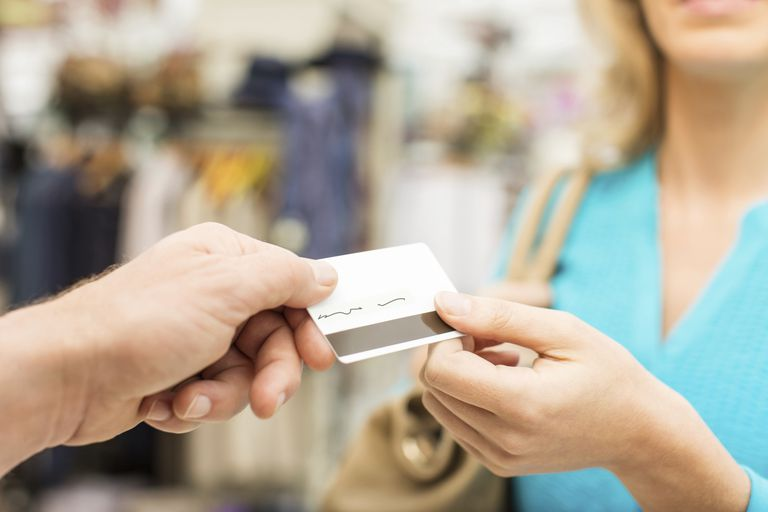tarjeta: (302, 240, 472, 366)
